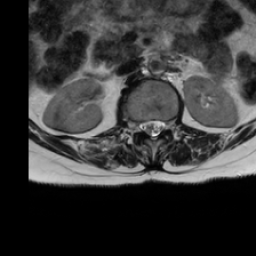CCS_normal: (149, 113, 157, 142)
LFS_normal: (165, 115, 171, 134)
LLS_normal: (156, 115, 164, 138)
RFS_normal: (131, 114, 140, 139)
RLS_normal: (140, 116, 149, 135)
